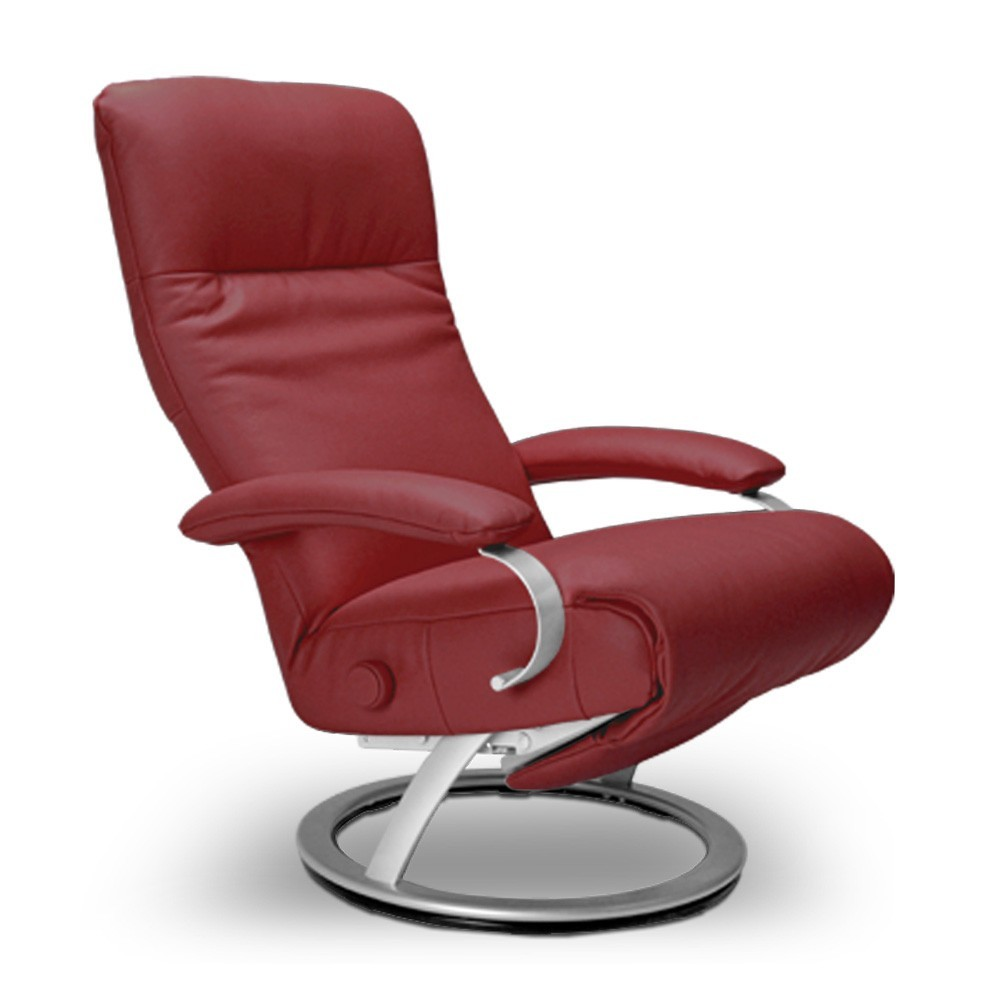chairs: (76, 69, 898, 944)
